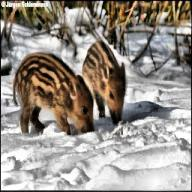boar: (12, 51, 94, 135), (82, 38, 126, 124)
